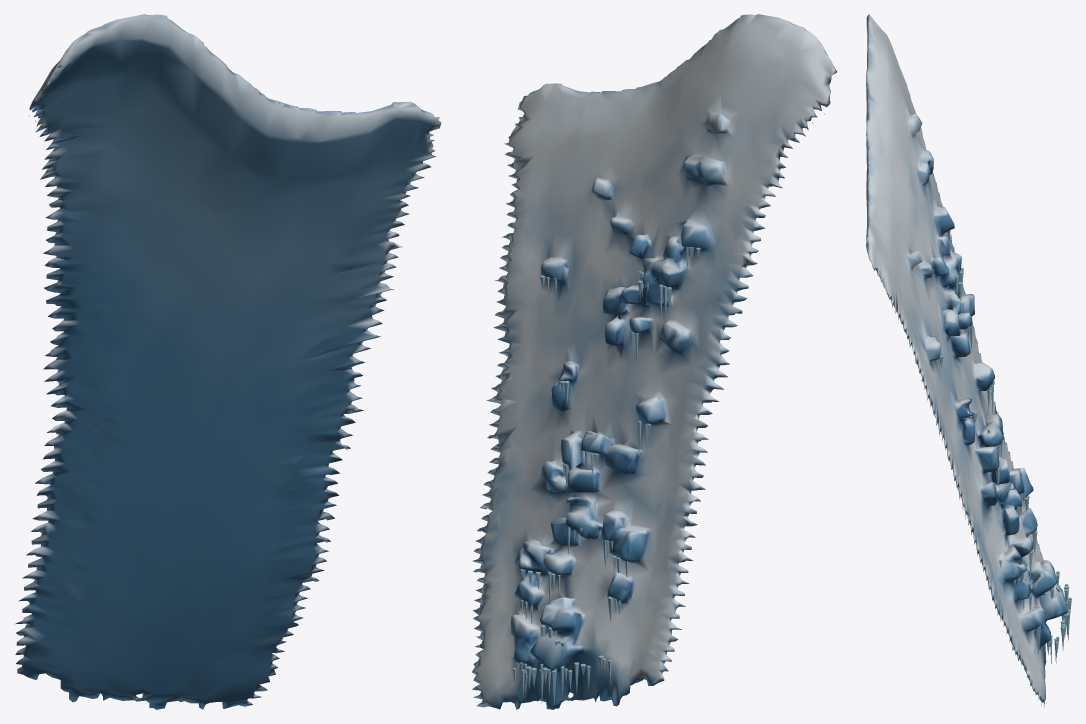
The model's file is sanctum_seal_gate_ice.glb.
The picture shows the model from 3 angles, left to right: view 1: azimuth 30°, elevation 25°; view 2: azimuth 150°, elevation 25°; view 3: azimuth 270°, elevation 25°; orthographic projection. The views are drawn at different scales.
Visible parts, largest first — view 1: Entrance_IceTongue; view 2: Entrance_IceTongue; view 3: Entrance_IceTongue.
Boxes of the visible parts, x1,y1,x2,y2 form: Entrance_IceTongue: [15, 14, 441, 709]; Entrance_IceTongue: [472, 14, 836, 709]; Entrance_IceTongue: [866, 14, 1071, 707].
Bounding box in the file's own units: 32.23 × 63.13 × 19.7.
